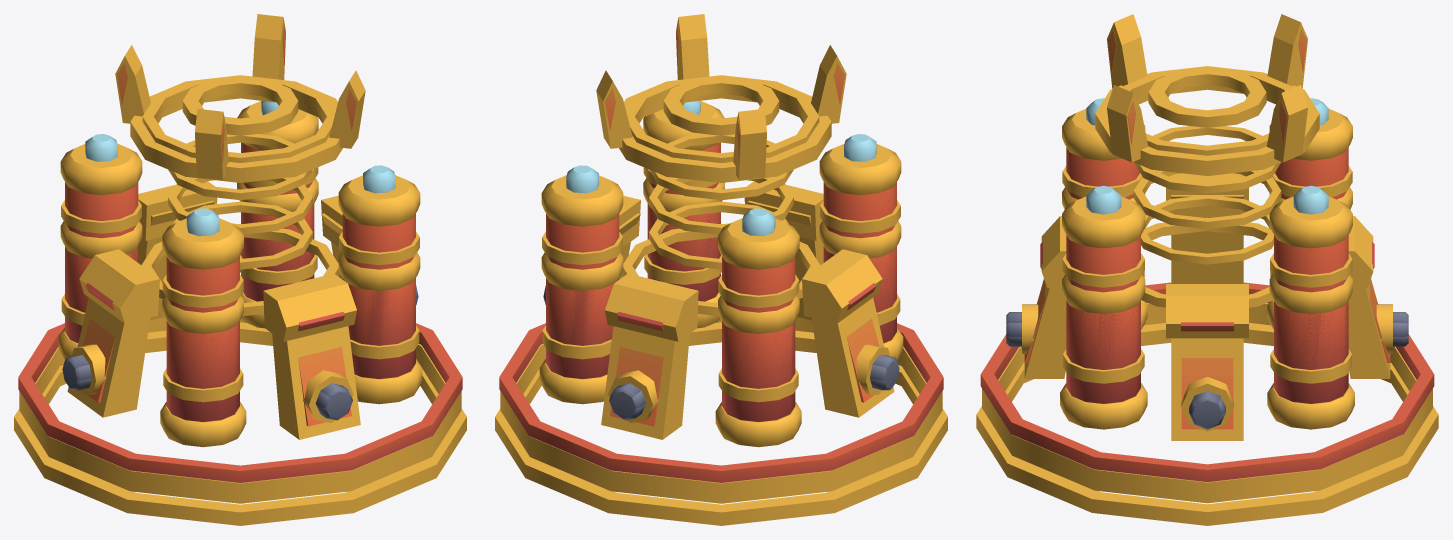
File: tesla_upgrades.glb
The picture shows the model from 3 angles, left to right: view 1: azimuth 30°, elevation 25°; view 2: azimuth 150°, elevation 25°; view 3: azimuth 270°, elevation 25°; orthographic projection. The views are drawn at different scales.
Parts seen in each view (by area): view 1: tesla_upgrade_l8, tesla_upgrade_l6, tesla_upgrade_l5, tesla_upgrade_l3, tesla_upgrade_l2, tesla_upgrade_l7, tesla_upgrade_l4; view 2: tesla_upgrade_l8, tesla_upgrade_l6, tesla_upgrade_l5, tesla_upgrade_l3, tesla_upgrade_l2, tesla_upgrade_l7, tesla_upgrade_l4; view 3: tesla_upgrade_l8, tesla_upgrade_l6, tesla_upgrade_l5, tesla_upgrade_l3, tesla_upgrade_l2, tesla_upgrade_l7, tesla_upgrade_l4.
Part boxes in pixels (x1,y1,x2,y2): tesla_upgrade_l8: [14, 76, 466, 525]; tesla_upgrade_l6: [60, 101, 420, 421]; tesla_upgrade_l5: [58, 178, 422, 447]; tesla_upgrade_l3: [62, 200, 418, 439]; tesla_upgrade_l2: [19, 75, 461, 503]; tesla_upgrade_l7: [115, 14, 365, 182]; tesla_upgrade_l4: [141, 134, 339, 316]; tesla_upgrade_l8: [495, 76, 947, 525]; tesla_upgrade_l6: [541, 101, 901, 421]; tesla_upgrade_l5: [539, 178, 903, 447]; tesla_upgrade_l3: [543, 200, 899, 439]; tesla_upgrade_l2: [500, 75, 942, 503]; tesla_upgrade_l7: [596, 14, 846, 182]; tesla_upgrade_l4: [622, 134, 820, 316]; tesla_upgrade_l8: [976, 67, 1438, 525]; tesla_upgrade_l6: [1062, 98, 1352, 403]; tesla_upgrade_l5: [1060, 187, 1354, 429]; tesla_upgrade_l3: [1006, 195, 1408, 440]; tesla_upgrade_l2: [982, 66, 1432, 503]; tesla_upgrade_l7: [1095, 14, 1319, 175]; tesla_upgrade_l4: [1133, 126, 1281, 307].
Size of the model in its own units: 1.28 by 1.14 by 1.28.
1 material, 1 textured.
